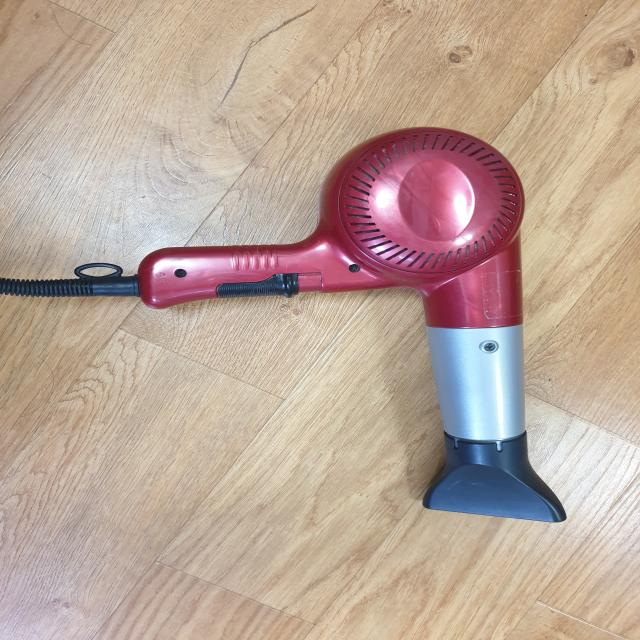dryer: (0, 125, 569, 524)
